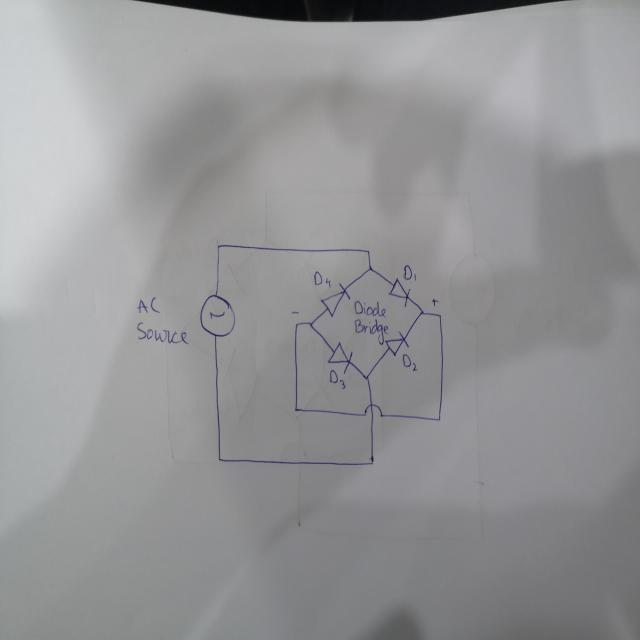crossover: (362, 402, 383, 420)
diode: (320, 281, 350, 318), (327, 342, 355, 377), (384, 329, 410, 358), (387, 278, 411, 309)
junction: (362, 371, 372, 382), (214, 241, 222, 252), (216, 453, 224, 464), (368, 456, 376, 466), (366, 263, 374, 273), (307, 318, 314, 329), (364, 247, 372, 256), (293, 404, 300, 414), (419, 308, 426, 317), (294, 320, 300, 327), (436, 415, 441, 423), (437, 311, 442, 318)
source: (198, 292, 236, 340)
text: (135, 319, 191, 345), (353, 317, 390, 346), (352, 299, 387, 319), (135, 296, 159, 317), (328, 368, 346, 390), (312, 270, 332, 288), (401, 352, 418, 372), (402, 263, 417, 281), (429, 295, 438, 308), (288, 308, 299, 314)
